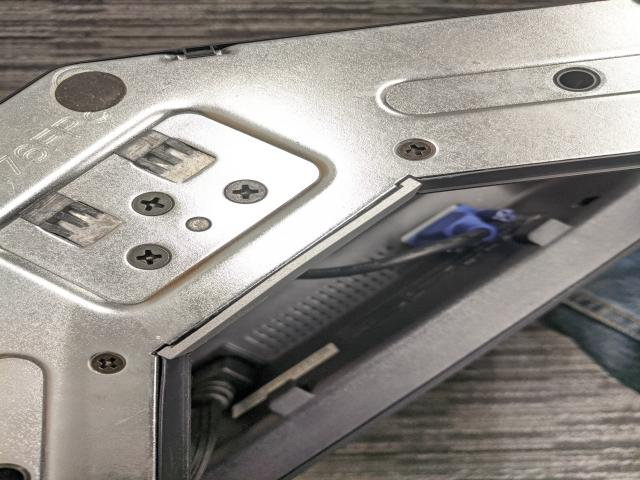CRS: (221, 178, 271, 203), (128, 190, 172, 216), (129, 243, 170, 270), (88, 352, 131, 374), (396, 140, 436, 162)
